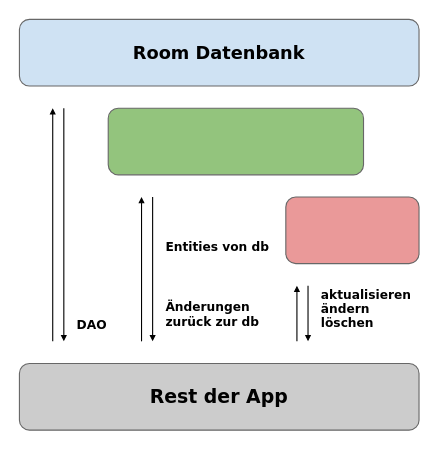
Image size: 438x450. Some labels were removed from this diagram. The shapes that lost their labels are listed below. From the top down, each one's centre as x and y in pixels, then its label:
the point at 235,141: Data Access Objects
the point at 352,230: Entities
